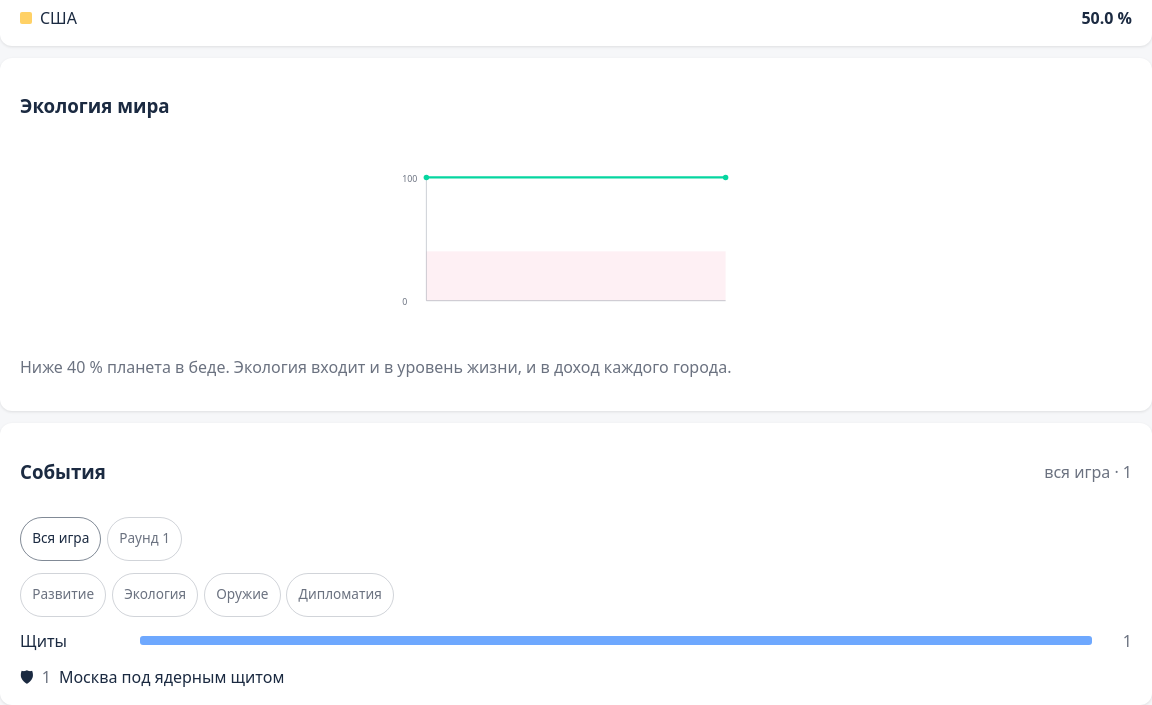
Test: Dashboard · filtering › says so when the filters match nothing
(page scrolled)
Click the button "Дипломатия". click: (340, 594)
box: [286,572,394,616]
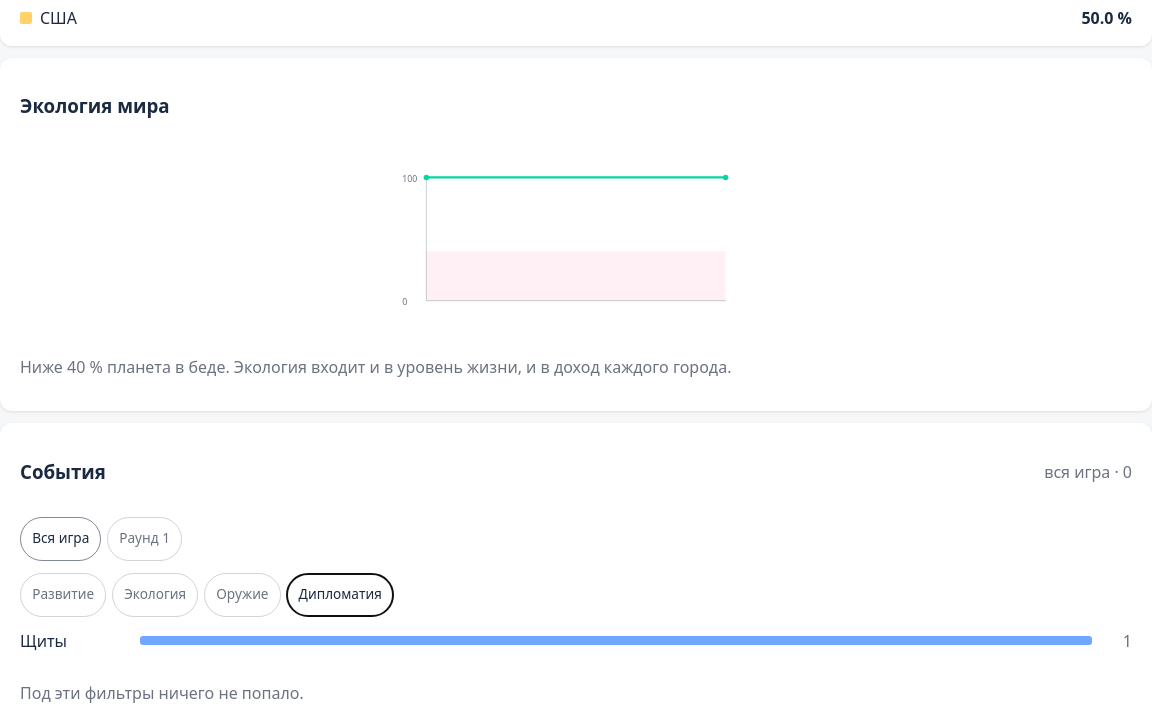
Now the text "Под эти фильтры ничего не попало." is shown, box [20,682,304,704]
